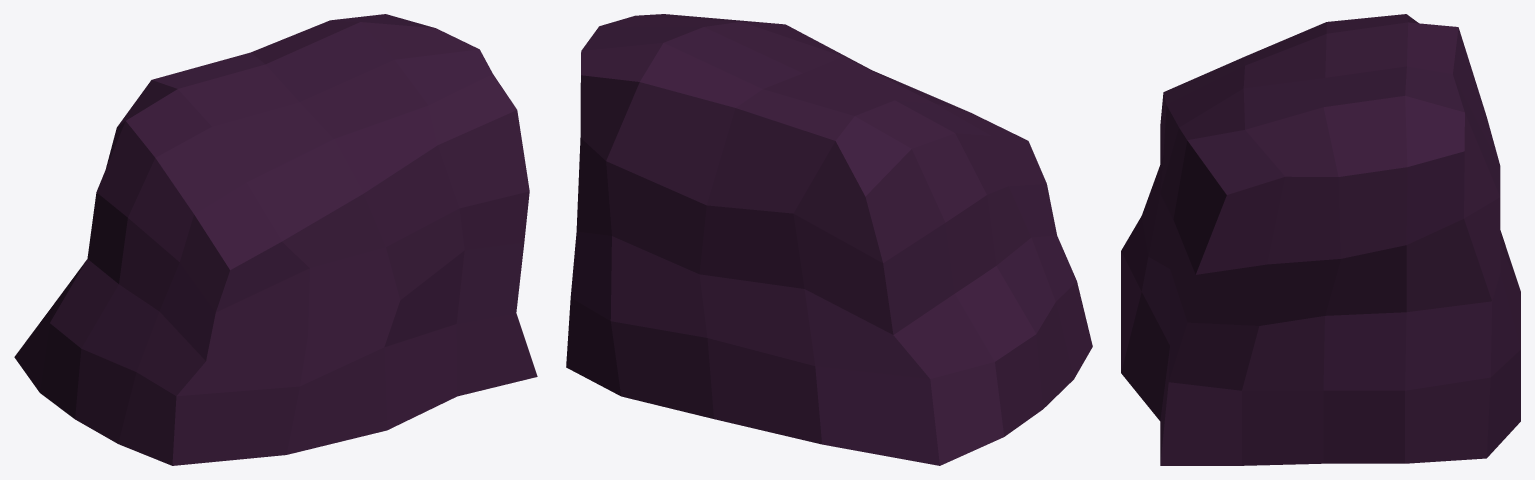
The model's file is Mo_ForestLargeBoulder02.fbx.
The picture shows the model from 3 angles, left to right: view 1: azimuth 30°, elevation 25°; view 2: azimuth 150°, elevation 25°; view 3: azimuth 270°, elevation 25°; orthographic projection. The views are drawn at different scales.
Parts seen in each view (by area): view 1: Cube; view 2: Cube; view 3: Cube.
Boxes of the visible parts, left/top/right/bottom form: Cube: left=14, top=14, right=537, bottom=465; Cube: left=566, top=14, right=1092, bottom=465; Cube: left=1121, top=14, right=1520, bottom=465.
Bounding box in the file's own units: 3302 × 2228 × 2432.
